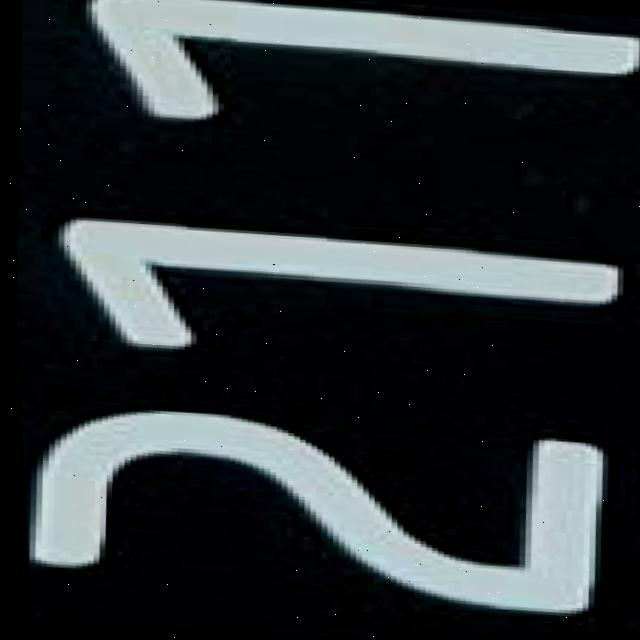character: (21, 395, 627, 624), (39, 202, 640, 385), (71, 0, 640, 157)
